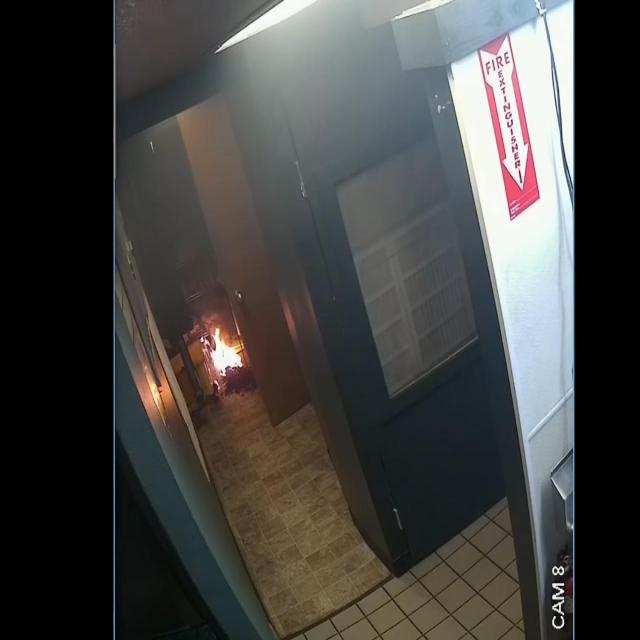fire: (210, 327, 243, 376)
